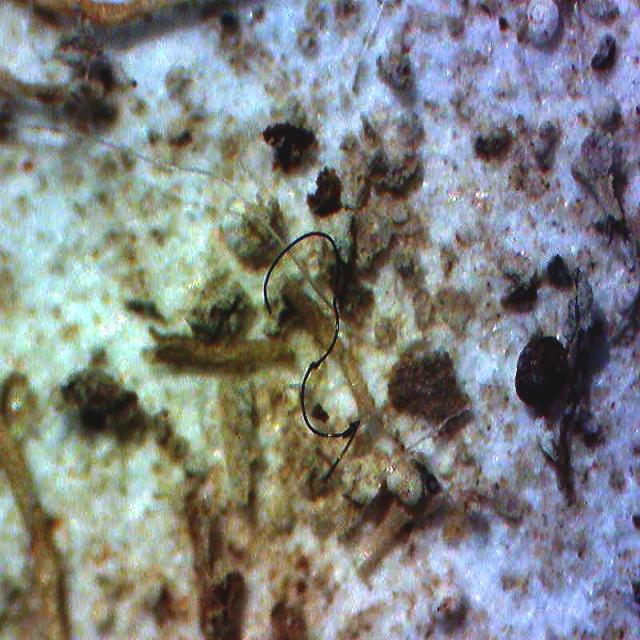microplastic: (256, 229, 367, 484)
